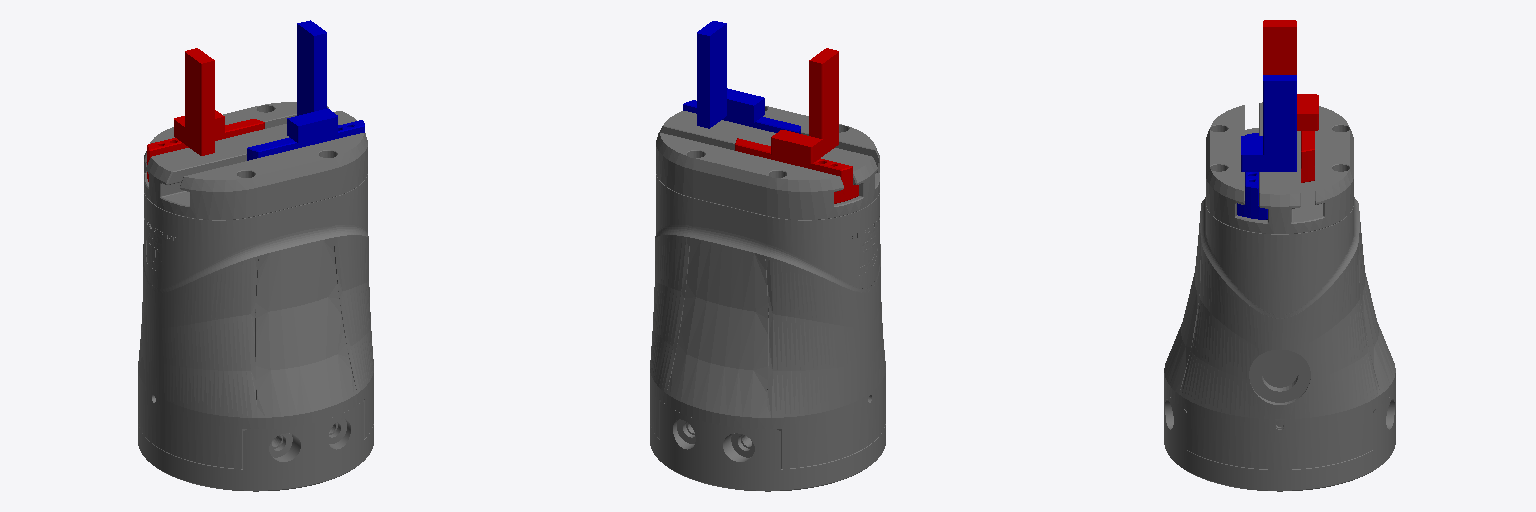
URDF robot description (test_gripper):
<?xml version="1.0"?>
<robot name="test_gripper" xmlns:xacro="http://www.ros.org/wiki/xacro">

  <!-- Materials -->
  <material name="blue">
    <color rgba="0 0 0.8 1"/>
  </material>
  <material name="red">
    <color rgba="0.8 0 0 1"/>
  </material>
  <material name="grey">
    <color rgba="0.5 0.5 0.5 1"/>
  </material>

  <!-- Base link -->
  <link name="gripper_base_link">
    <visual>
      <origin xyz="0 0 0" rpy="0 0 0"/>
      <geometry>
        <mesh
          filename="package://test_gripper/meshes/gripper_base_n.stl" />
      </geometry>
      <material name="grey"/>
    </visual>
    <collision>
      <origin xyz="0 0 0" rpy="0 0 0"/>
      <geometry>
        <mesh
          filename="package://test_gripper/meshes/gripper_base.stl" />
      </geometry>
    </collision>
    <inertial>
      <mass value="1.0"/>
      <inertia ixx="0.001" ixy="0.0" ixz="0.0" iyy="0.001" iyz="0.0" izz="0.001"/>
    </inertial>
  </link>

  <!-- Left finger  -->
  <link name="left_finger">
    <visual>
      <origin xyz="0 0 0" rpy="0 0 0"/>
      <geometry>
        <mesh
          filename="package://test_gripper/meshes/left_grip.stl" 
          scale="0.001 0.001 0.001" />
      </geometry>
      <material name="blue"/>
    </visual>
    <collision>
      <origin xyz="0 0 0" rpy="0 0 0"/>
      <geometry>
        <mesh
          filename="package://test_gripper/meshes/left_grip.stl" 
          scale="0.001 0.001 0.001" />
      </geometry>
    </collision>
    <inertial>
      <mass value="0.1"/>
      <inertia ixx="0.0001" ixy="0.0" ixz="0.0" iyy="0.0001" iyz="0.0" izz="0.0001"/>
    </inertial>
  </link>

  <!-- Right finger -->
  <link name="right_finger">
    <visual>
      <origin xyz="0 0 0" rpy="0 0 0"/>
      <geometry>
        <mesh
          filename="package://test_gripper/meshes/right_grip.stl" 
          scale="0.001 0.001 0.001" />
      </geometry>
      <material name="red"/>
    </visual>
    <collision>
      <origin xyz="0 0 0" rpy="0 0 0"/>
      <geometry>
        <mesh
          filename="package://test_gripper/meshes/right_grip.stl" 
          scale="0.001 0.001 0.001" />
      </geometry>
    </collision>
    <inertial>
      <mass value="0.1"/>
      <inertia ixx="0.0001" ixy="0.0" ixz="0.0" iyy="0.0001" iyz="0.0" izz="0.0001"/>
    </inertial>
  </link>

  <!-- Left finger joint (primary joint) -->
  <joint name="left_finger_joint" type="prismatic">
    <parent link="gripper_base_link"/>
    <child link="left_finger"/>
    <origin xyz="-0.016 0.009 0.10225" rpy="0 0 0"/>
    <axis xyz="1 0 0"/>
    <limit lower="-0.01825" upper="0.0" effort="10" velocity="1.0"/>
    <dynamics damping="0.3"/>
  </joint>

  <!-- Right finger joint (mimic joint) -->
  <joint name="right_finger_joint" type="prismatic">
    <parent link="gripper_base_link"/>
    <child link="right_finger"/>
    <origin xyz="0.016 -0.009 0.10225" rpy="0 0 0"/>
    <axis xyz="-1 0 0"/>
    <limit lower="-0.01825" upper="0.0" effort="10" velocity="1.0"/>
    <mimic joint="left_finger_joint"/>
    <dynamics damping="0.3"/>
  </joint>

</robot> 

--- Render facts (derived) ---
The picture shows the robot from 3 angles, left to right: view 1: azimuth 30°, elevation 25°; view 2: azimuth 150°, elevation 25°; view 3: azimuth 270°, elevation 25°; orthographic projection.
Model test_gripper with 3 links and 2 joints (2 prismatic), rooted at gripper_base_link, posed every joint at zero.
Visible links, largest first — view 1: gripper_base_link, left_finger, right_finger; view 2: gripper_base_link, right_finger, left_finger; view 3: gripper_base_link, left_finger, right_finger.
Boxes of the visible links, x1=… form: gripper_base_link: x1=138, y1=102, x2=373, y2=491; left_finger: x1=247, y1=20, x2=364, y2=160; right_finger: x1=147, y1=48, x2=264, y2=181; gripper_base_link: x1=650, y1=106, x2=885, y2=491; right_finger: x1=735, y1=48, x2=858, y2=203; left_finger: x1=683, y1=21, x2=800, y2=133; gripper_base_link: x1=1164, y1=102, x2=1395, y2=491; left_finger: x1=1237, y1=75, x2=1296, y2=219; right_finger: x1=1263, y1=20, x2=1318, y2=182.
Bounding box of the posed robot: 0.075 × 0.075 × 0.1402 m (x, y, z).
Meshes: 3 distinct files referenced, 3 mesh visuals loaded (3 binary STL).